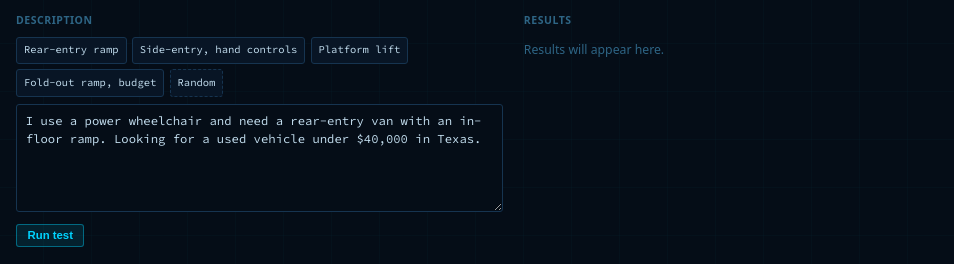
IntakeTestPanel › should show the offline message when the response is empty
Click the button "Run test": [50, 235] box [16, 224, 84, 247]
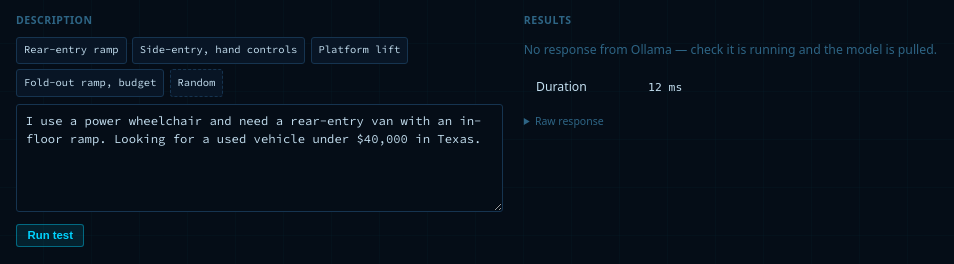
Now the text "No response from Ollama — check it is running and the model is pulled." is shown, box [524, 40, 937, 58]
